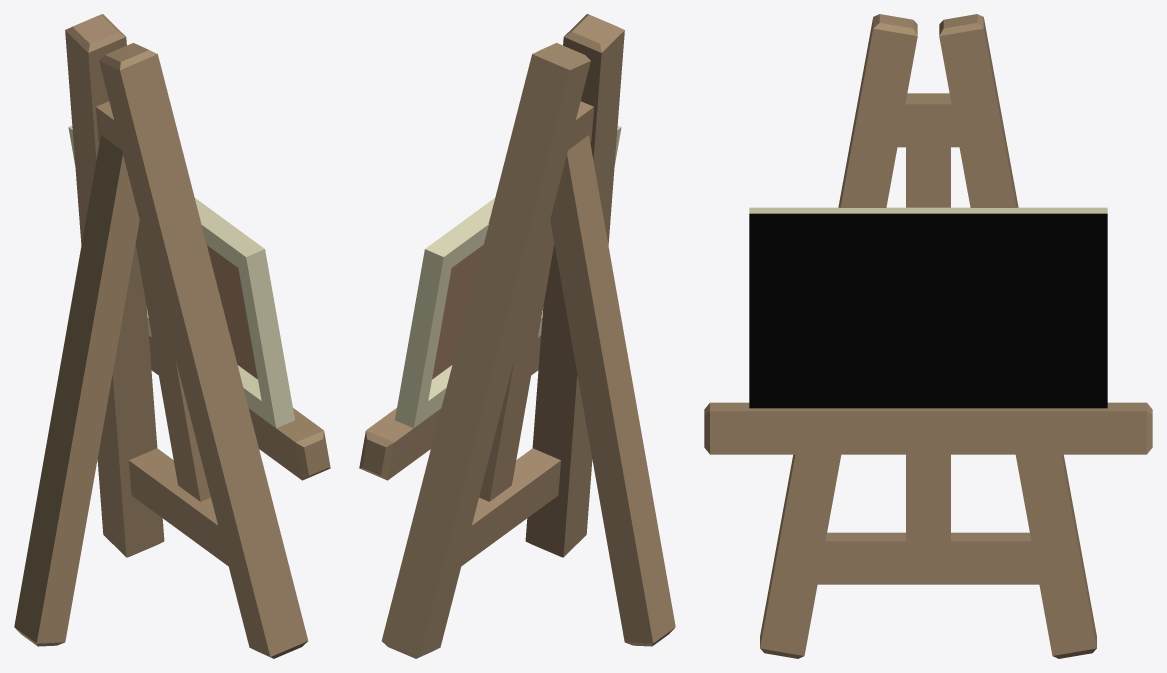
Rendered from easeandpainting.glb.
3 views of the same model, side by side, from view 1: azimuth 30°, elevation 25°; view 2: azimuth 150°, elevation 25°; view 3: azimuth 270°, elevation 25° (orthographic).
Parts seen in each view (by area): view 1: Cube.001, Cube.002; view 2: Cube.001, Cube.002; view 3: Cube.001, Cube.002.
Boxes of the visible parts, left/top/right/bottom form: Cube.001: left=14, top=14, right=330, bottom=658; Cube.002: left=68, top=125, right=294, bottom=428; Cube.001: left=359, top=14, right=675, bottom=658; Cube.002: left=395, top=125, right=621, bottom=428; Cube.001: left=704, top=14, right=1152, bottom=658; Cube.002: left=749, top=207, right=1107, bottom=408.
Size of the model in its own units: 2.08 by 5.85 by 4.
